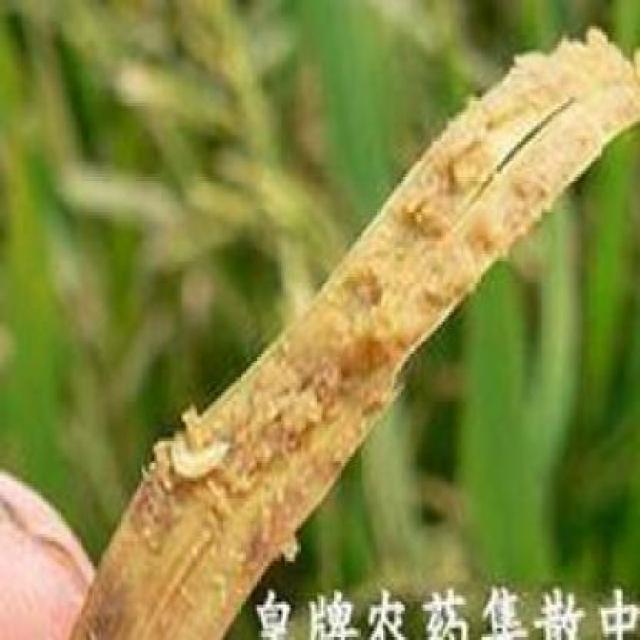whorl-maggot: (163, 433, 239, 489)
